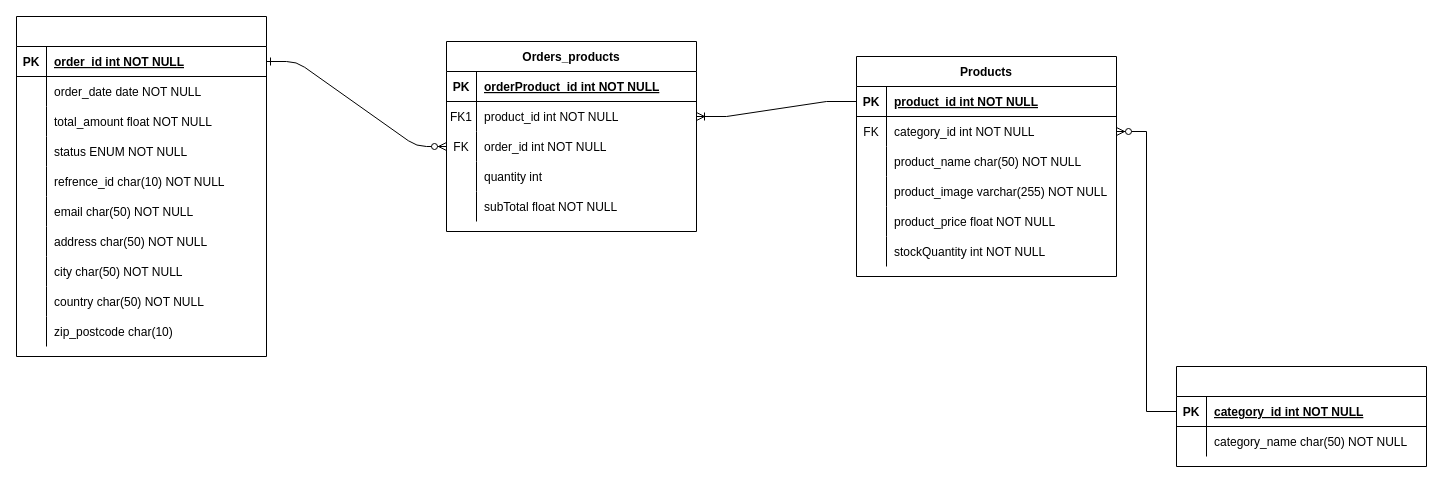
The diagram is 1443 pixels wide and 483 high, and some of its shapes have lost their labels. Each missing label, with the box of its shape:
Categories: (1176, 366, 1426, 466)
Orders: (16, 16, 266, 356)
